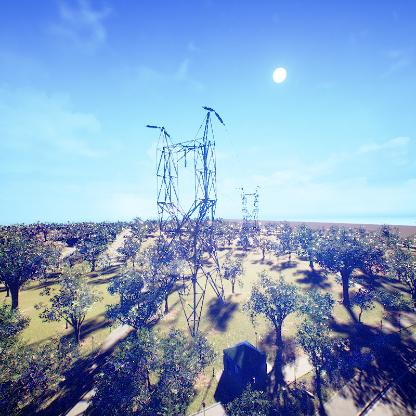tower: (144, 106, 230, 342), (236, 183, 264, 247)
